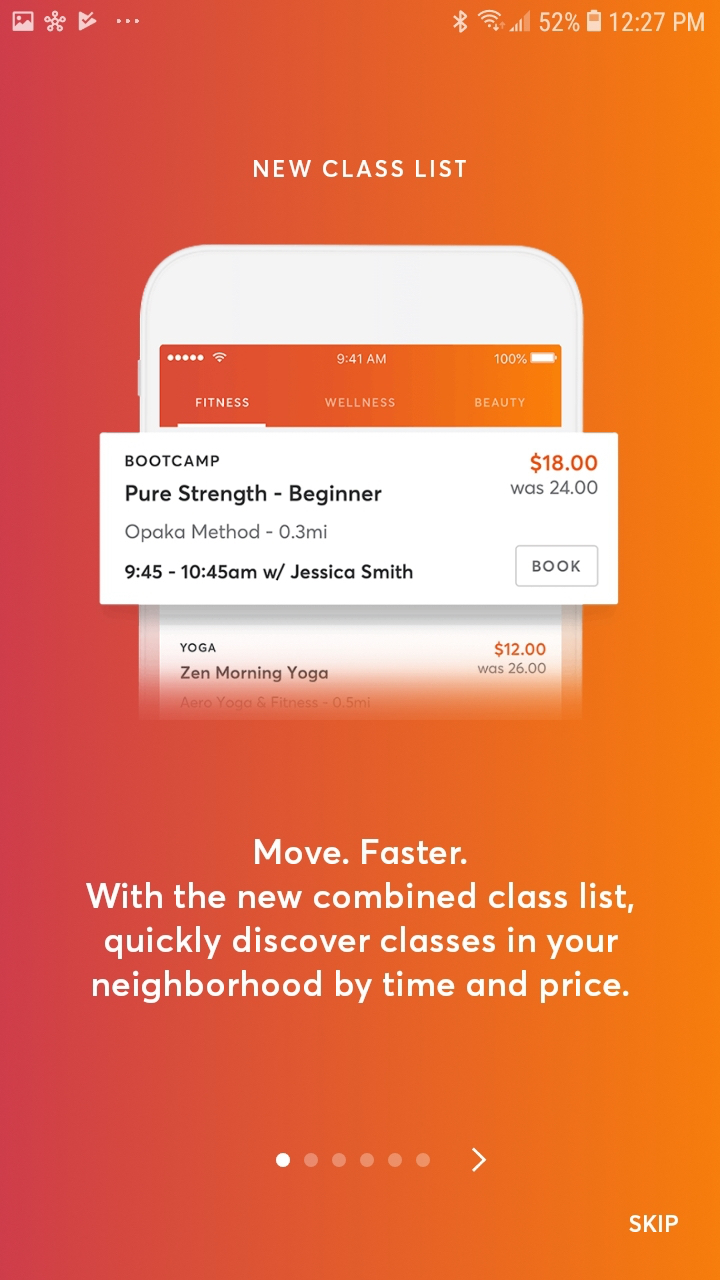Icon: (471, 1148, 487, 1173)
Image: (99, 245, 618, 721)
PageIndicator: (276, 1152, 432, 1168)
Text: (85, 839, 635, 1005), (254, 159, 467, 179), (629, 1214, 679, 1233)
UpperTaskBar: (1, 2, 720, 37)
